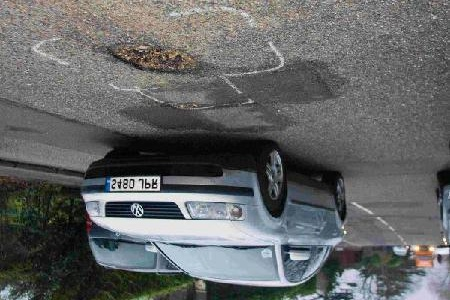pothole: (104, 40, 200, 76), (160, 100, 215, 113)
